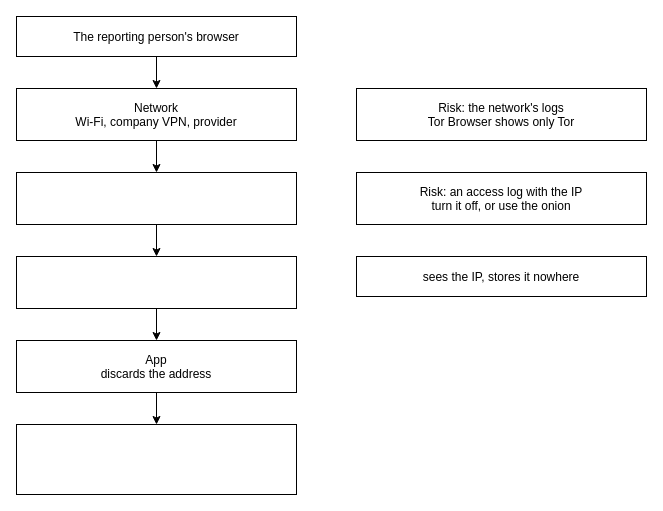
Some shapes in this 663 by 511 pixel diagram are drawn without their labels. The shapes that lost their labels are listed below. From the top down, each one's centre as x and y in pixels, then its label:
the point at 156,198: Optional: a CDN or reverse proxy in front
the point at 156,282: OpenWhistle's nginx strips IP headers, no log
the point at 156,459: Database no IP column
